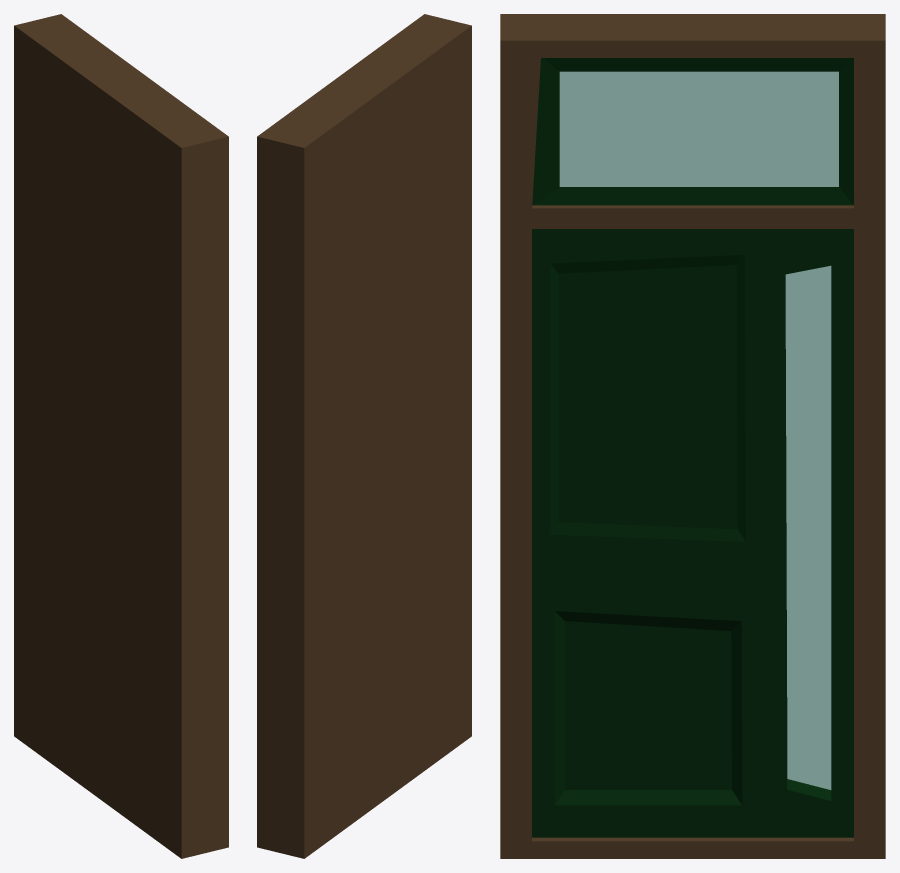
Rendered from Door18.fbx.
3 views of the same model, side by side, from view 1: azimuth 30°, elevation 25°; view 2: azimuth 150°, elevation 25°; view 3: azimuth 270°, elevation 25° (orthographic). The views are drawn at different scales.
Parts seen in each view (by area): view 1: Cube.039; view 2: Cube.039; view 3: Cube.039.
Boxes of the visible parts, left/top/right/bottom form: Cube.039: left=14, top=14, right=228, bottom=858; Cube.039: left=257, top=14, right=471, bottom=858; Cube.039: left=500, top=14, right=885, bottom=858.
Size of the model in its own units: 18.61 by 268 by 114.
